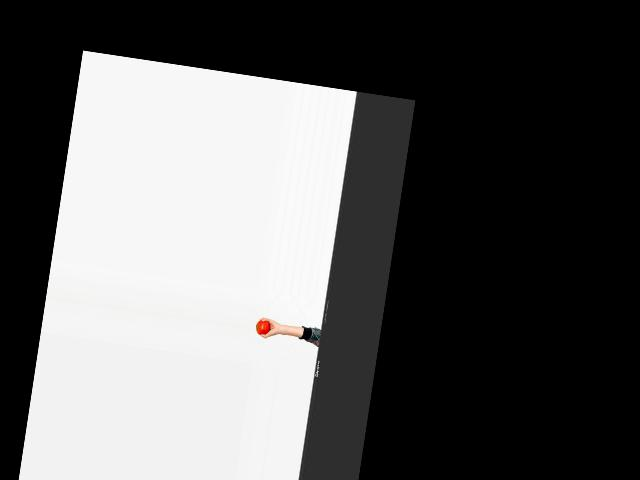tomato: (254, 319, 271, 335)
